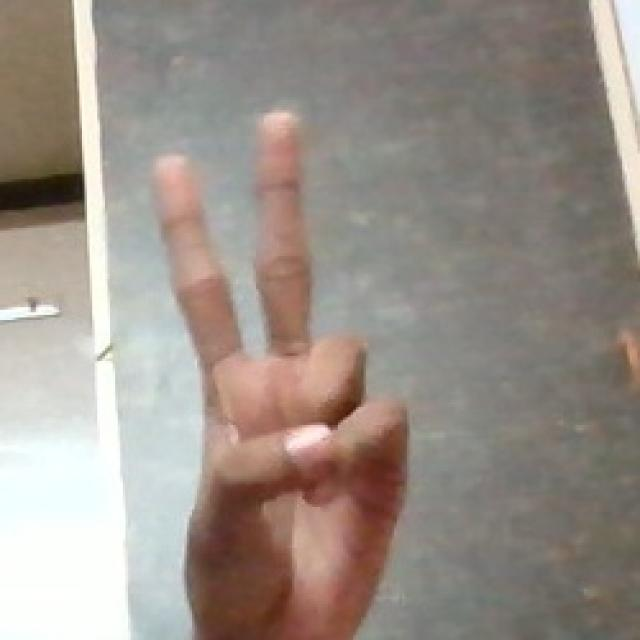Numeric-2: (151, 110, 410, 622)
